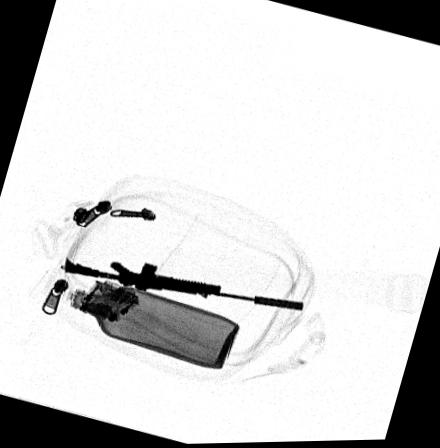Gun: (61, 255, 303, 312)
